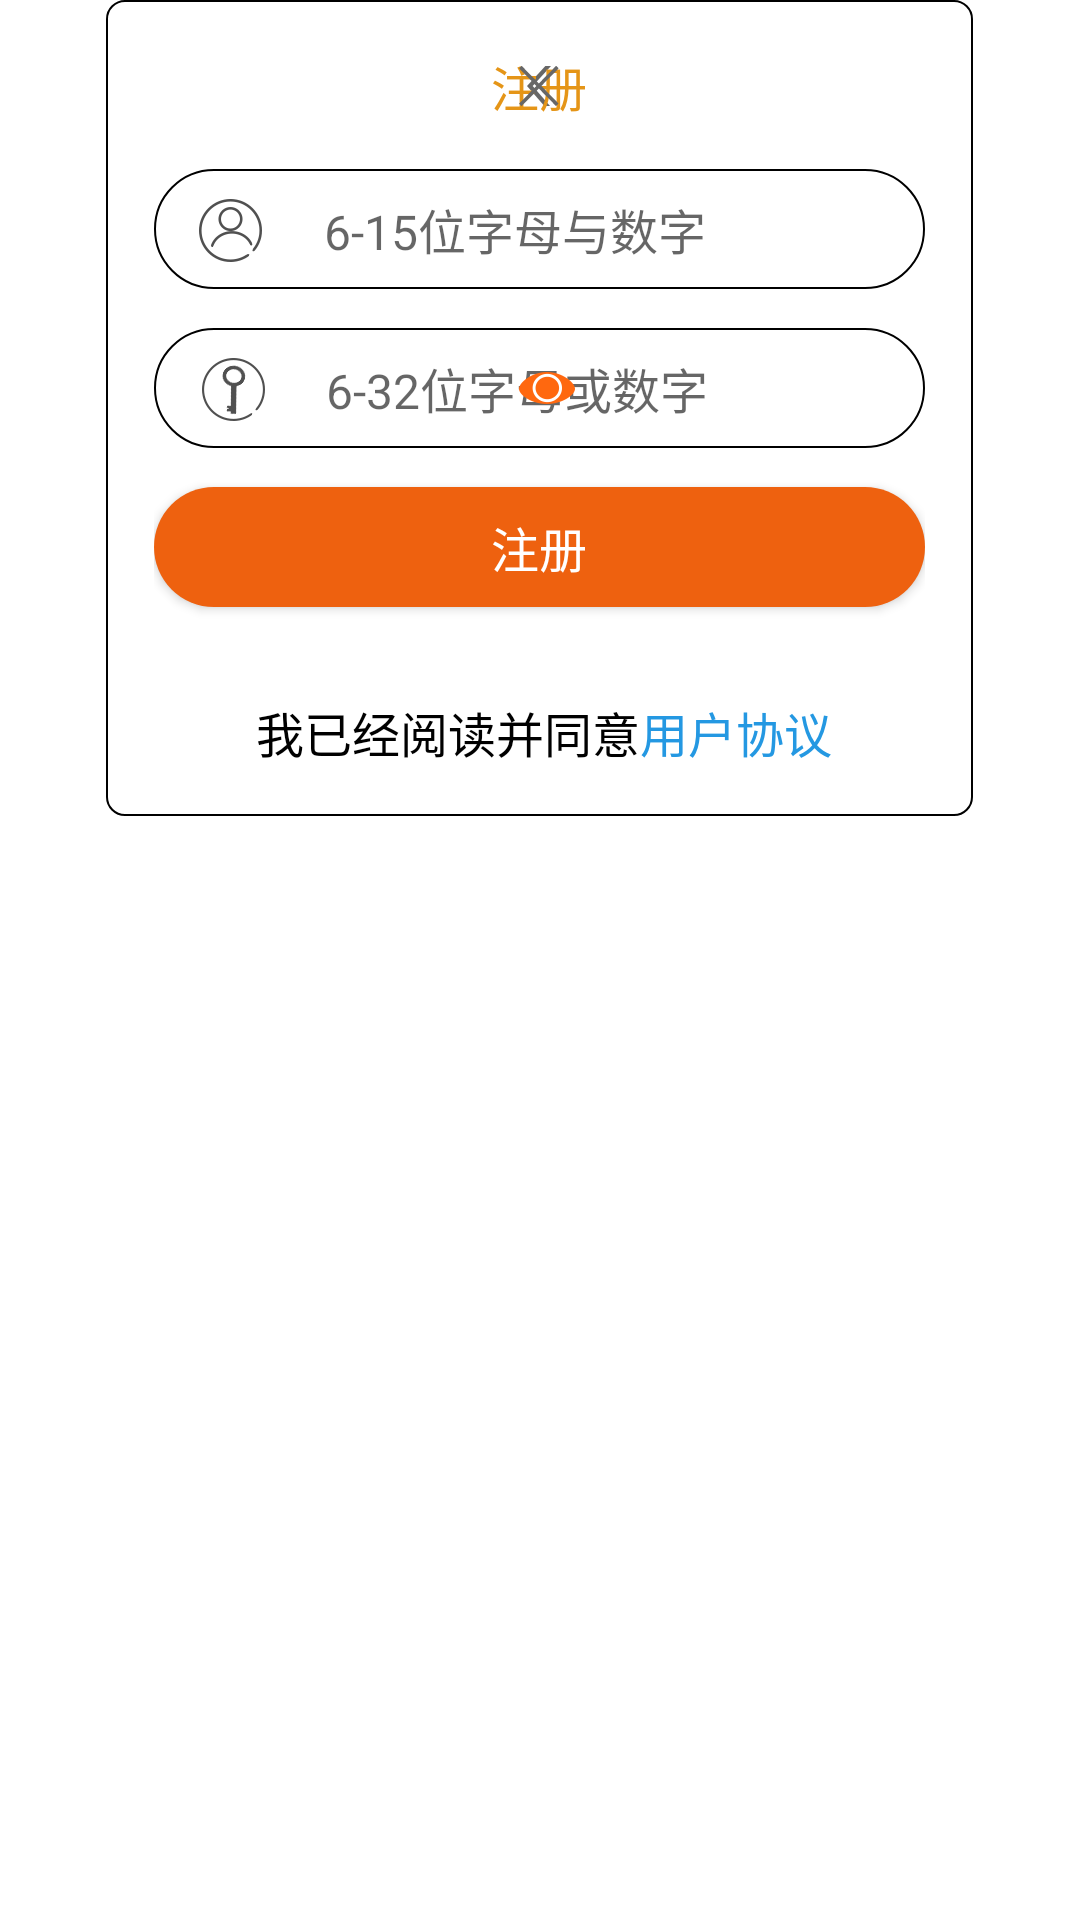

Locate icon controls on the screen. Image size 1080 × 1920, boxes as (x1, y1, x2, y2).
ui eye: (519, 372, 575, 404)
ui login password: (202, 358, 265, 421)
ui login user: (199, 199, 262, 262)
